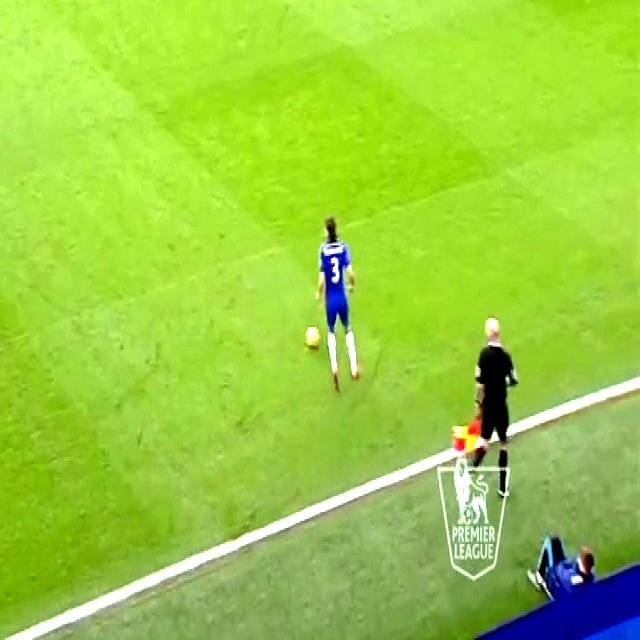ball: (299, 316, 324, 363)
referee: (434, 292, 516, 498)
soccer-player: (306, 202, 368, 394)
